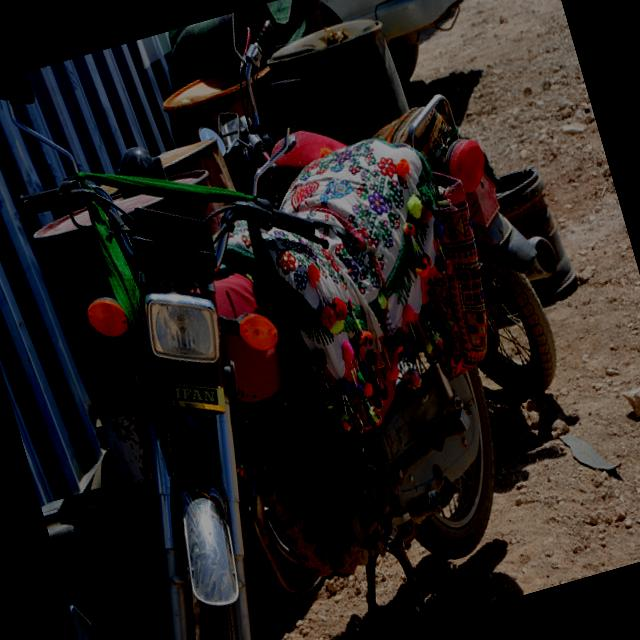Vehicle: (0, 0, 545, 640), (176, 0, 591, 462), (318, 0, 494, 97)
